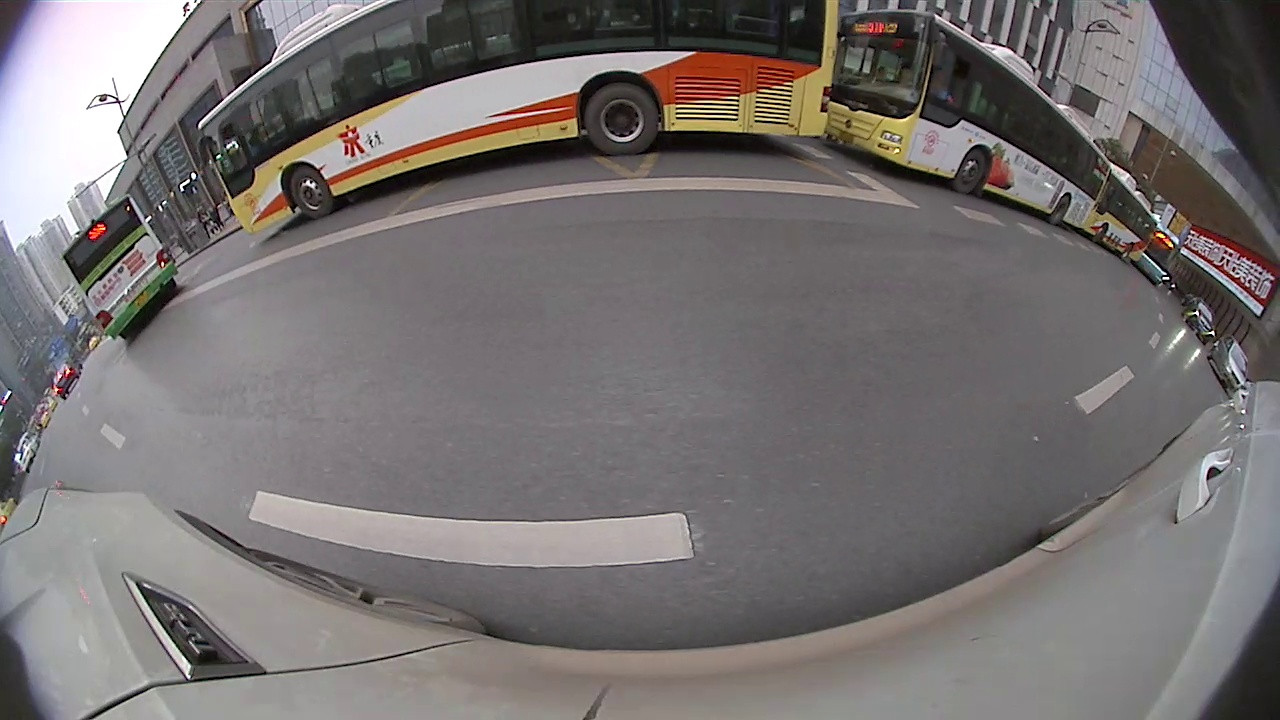car: (656, 42, 936, 210), (966, 187, 1147, 345), (67, 188, 215, 321), (1185, 368, 1242, 438)
front: (888, 171, 925, 210), (110, 274, 141, 315), (1102, 318, 1133, 344)
rear: (713, 129, 766, 180), (1055, 297, 1096, 334), (80, 293, 104, 322)
